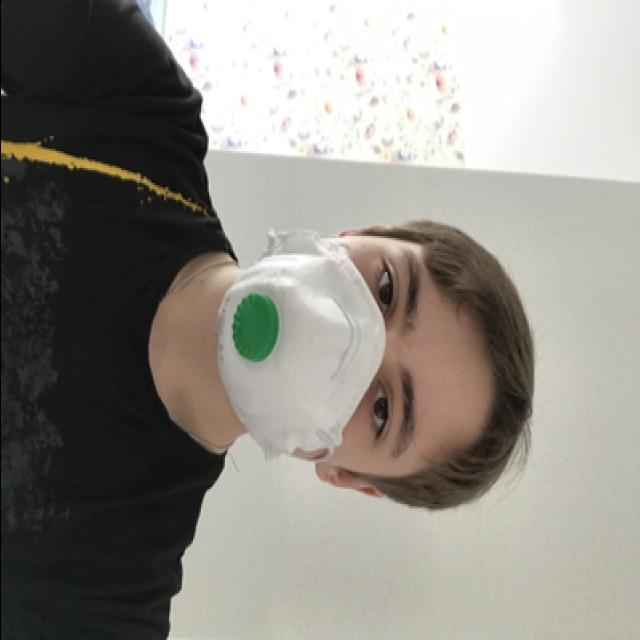mask: (218, 234, 466, 476)
